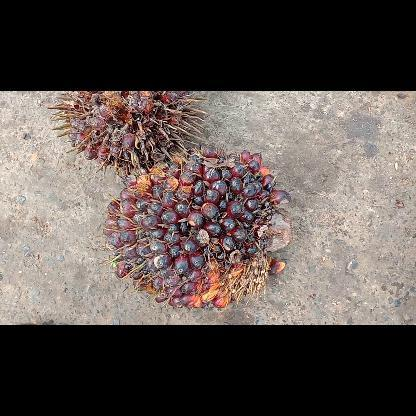Kurang masak: (98, 147, 292, 309)
TBS masak: (48, 90, 209, 176)
